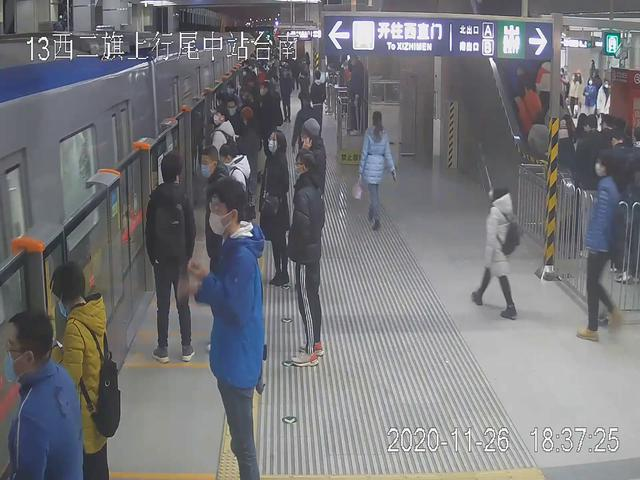person: (189, 178, 273, 480), (50, 259, 119, 480), (2, 312, 84, 480), (570, 151, 627, 342), (146, 151, 197, 362), (287, 149, 325, 368), (476, 183, 519, 319), (353, 107, 398, 230), (260, 129, 293, 286)
